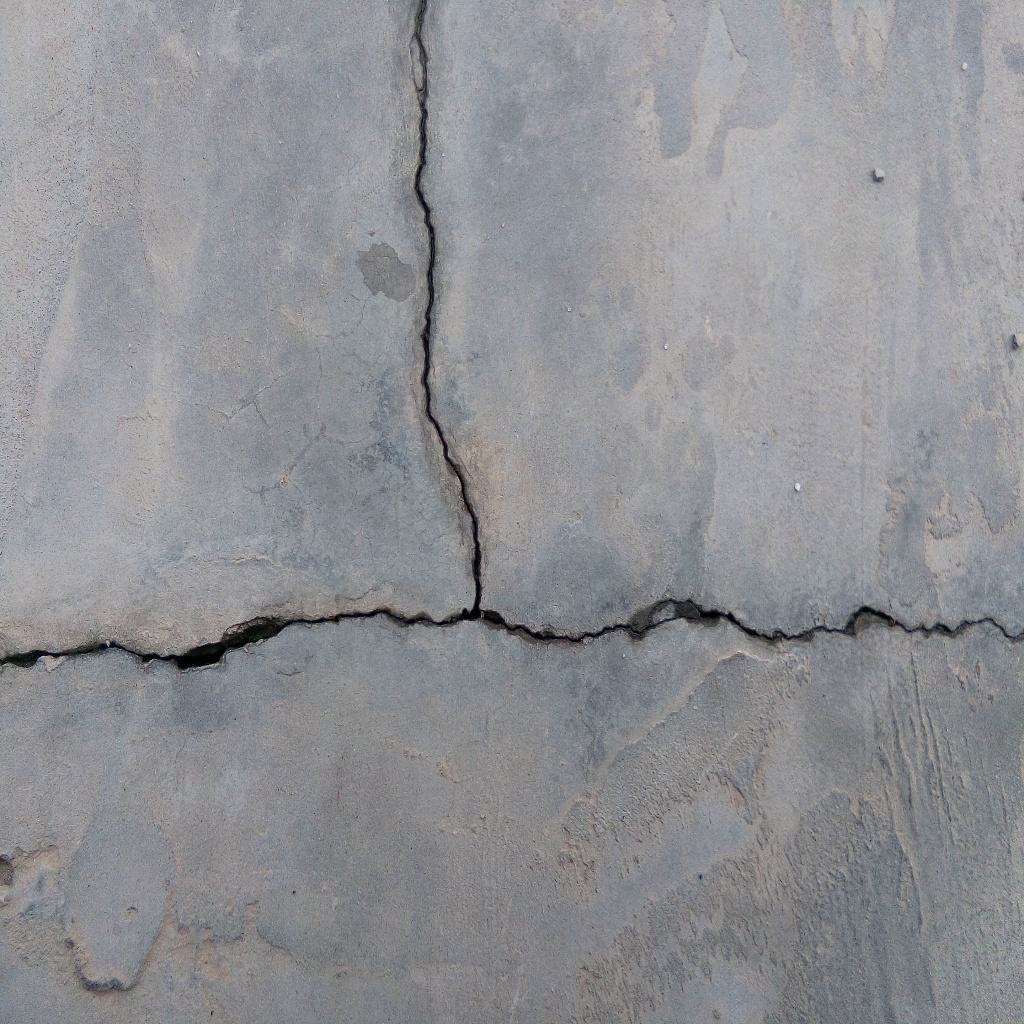Crack: (1, 598, 1024, 669), (407, 1, 482, 615)
